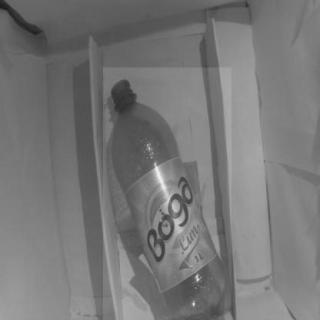plastic_bottles: (103, 67, 231, 320)
